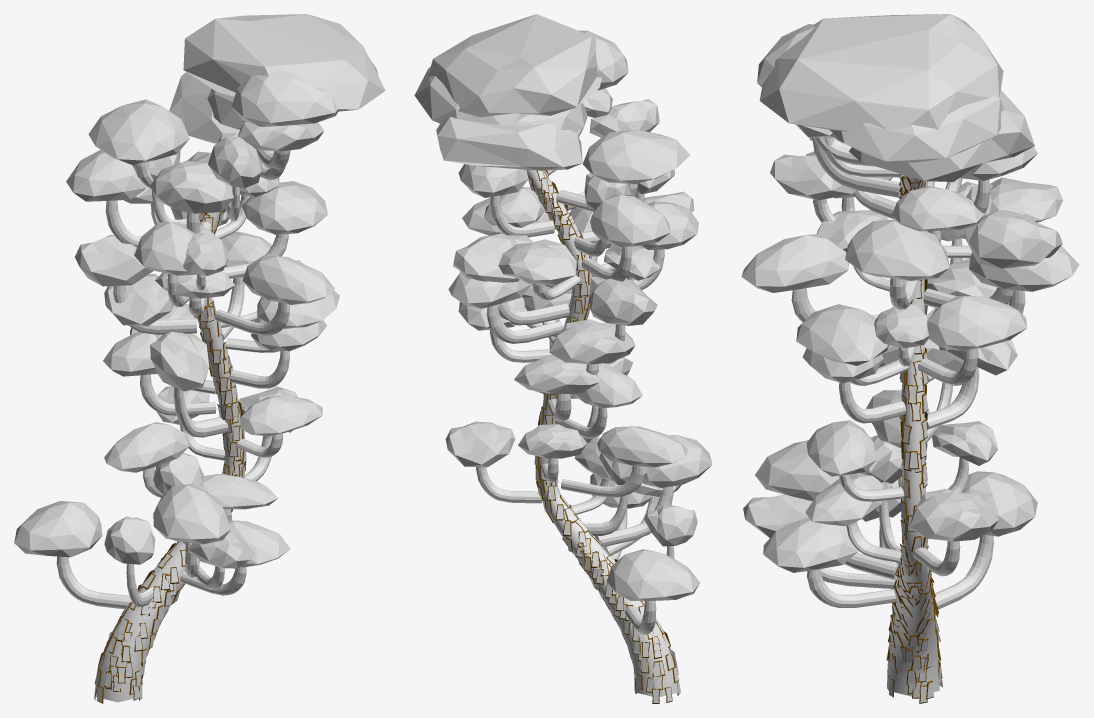
File: Tree04.fbx
3 renders of one model, left to right at view 1: azimuth 30°, elevation 25°; view 2: azimuth 150°, elevation 25°; view 3: azimuth 270°, elevation 25°, orthographic. The views are drawn at different scales.
Parts seen in each view (by area): view 1: Tree04; view 2: Tree04; view 3: Tree04.
Boxes of the visible parts, box(x1,y1,x2,y2) form: Tree04: box(14, 14, 385, 703); Tree04: box(414, 14, 712, 703); Tree04: box(741, 14, 1079, 703).
Bounding box in the file's own units: 862 × 1664 × 687.
